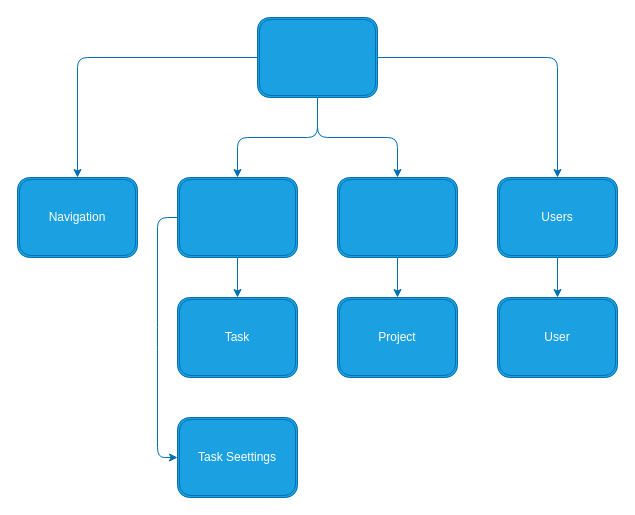
Some shapes in this 635 by 515 pixel diagram are drawn without their labels. The centre of each missing label's shape, as x and y in pixels:
APP: point 317,57
Projects: point 397,217
Tasks: point 237,217
